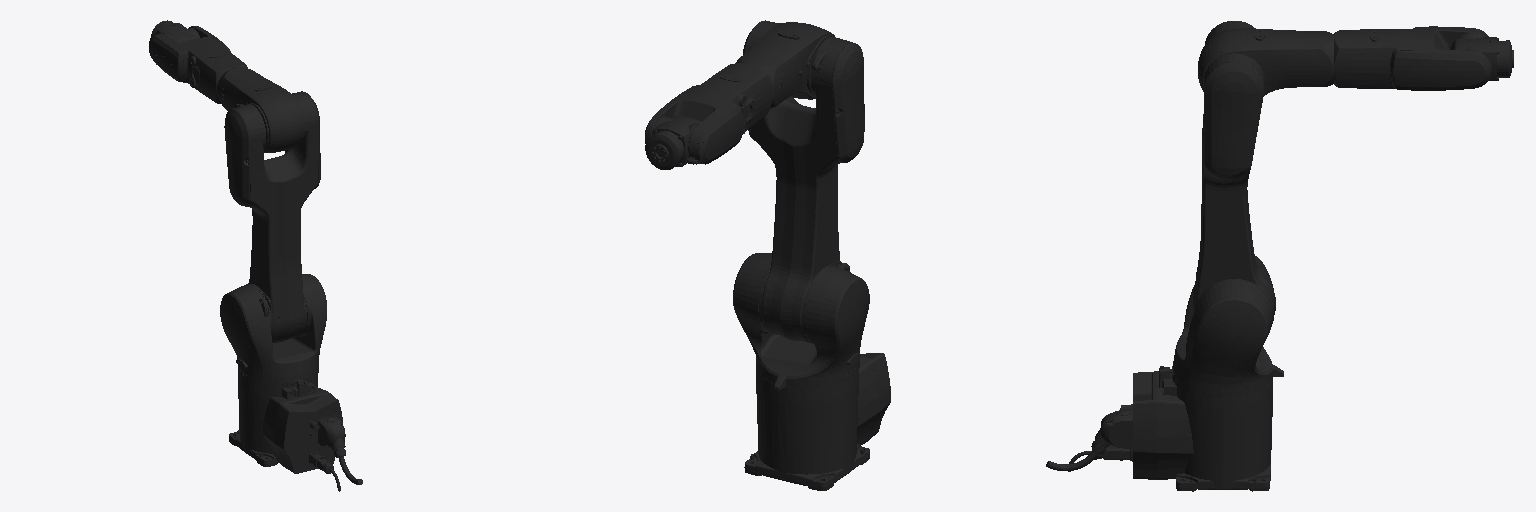
robot.urdf — KR_10_R1100-2:
<?xml version="1.0" encoding="utf-8"?>
<!-- This URDF was automatically created by SolidWorks to URDF Exporter! Originally created by [author] ([email redacted]) 
     Commit Version: 1.5.1-0-g916b5db  Build Version: 1.5.7152.31018
     For more information, please see http://wiki.ros.org/sw_urdf_exporter -->
<robot
  name="KR_10_R1100-2">
  <link
    name="base_link">
    <inertial>
      <origin
        xyz="0.00098 -0.046215 0.11375"
        rpy="0 0 0" />
      <mass
        value="40.968" />
      <inertia
        ixx="0.30715"
        ixy="0.00018245"
        ixz="-9.2053E-05"
        iyy="0.26964"
        iyz="-0.0017403"
        izz="0.26444" />
    </inertial>
    <visual>
      <origin
        xyz="0 0 0"
        rpy="0 0 0" />
      <geometry>
        <mesh
          filename="package://KR_10_R1100-2/meshes/base_link.STL" />
      </geometry>
      <material
        name="">
        <color
          rgba="0.2 0.2 0.2 1" />
      </material>
    </visual>
    <collision>
      <origin
        xyz="0 0 0"
        rpy="0 0 0" />
      <geometry>
        <mesh
          filename="package://KR_10_R1100-2/meshes/base_link.STL" />
      </geometry>
    </collision>
  </link>
  <link
    name="link1">
    <inertial>
      <origin
        xyz="-0.017091 0.066377 -0.00051004"
        rpy="0 0 0" />
      <mass
        value="20.836" />
      <inertia
        ixx="0.24929"
        ixy="0.017272"
        ixz="0.00086363"
        iyy="0.18784"
        iyz="-0.0017085"
        izz="0.15925" />
    </inertial>
    <visual>
      <origin
        xyz="0 0 0"
        rpy="0 0 0" />
      <geometry>
        <mesh
          filename="package://KR_10_R1100-2/meshes/link1.STL" />
      </geometry>
      <material
        name="">
        <color
          rgba="0.2 0.2 0.2 1" />
      </material>
    </visual>
    <collision>
      <origin
        xyz="0 0 0"
        rpy="0 0 0" />
      <geometry>
        <mesh
          filename="package://KR_10_R1100-2/meshes/link1.STL" />
      </geometry>
    </collision>
  </link>
  <joint
    name="joint1"
    type="revolute">
    <origin
      xyz="0 0.025 0.4"
      rpy="-1.5708 0 1.5708" />
    <parent
      link="base_link" />
    <child
      link="link1" />
    <axis
      xyz="0 1 0" />
    <limit
      lower="-2.9671"
      upper="2.9671"
      effort="0"
      velocity="0" />
  </joint>
  <link
    name="link2">
    <inertial>
      <origin
        xyz="-0.29289 -0.009112 0.0034181"
        rpy="0 0 0" />
      <mass
        value="37.712" />
      <inertia
        ixx="0.19183"
        ixy="0.0056744"
        ixz="-0.024057"
        iyy="1.7407"
        iyz="-0.00038136"
        izz="1.6453" />
    </inertial>
    <visual>
      <origin
        xyz="0 0 0"
        rpy="0 0 0" />
      <geometry>
        <mesh
          filename="package://KR_10_R1100-2/meshes/link2.STL" />
      </geometry>
      <material
        name="">
        <color
          rgba="0.2 0.2 0.2 1" />
      </material>
    </visual>
    <collision>
      <origin
        xyz="0 0 0"
        rpy="0 0 0" />
      <geometry>
        <mesh
          filename="package://KR_10_R1100-2/meshes/link2.STL" />
      </geometry>
    </collision>
  </link>
  <joint
    name="joint2"
    type="revolute">
    <origin
      xyz="0 -0.56 0"
      rpy="0 0 -1.5708" />
    <parent
      link="link1" />
    <child
      link="link2" />
    <axis
      xyz="0 0 -1" />
    <limit
      lower="-1.9199"
      upper="2.3562"
      effort="0"
      velocity="0" />
  </joint>
  <link
    name="link3">
    <inertial>
      <origin
        xyz="-0.013869 0.0027428 0.052477"
        rpy="0 0 0" />
      <mass
        value="13.861" />
      <inertia
        ixx="0.096392"
        ixy="0.0002029"
        ixz="-0.010877"
        iyy="0.099917"
        iyz="0.0014885"
        izz="0.036065" />
    </inertial>
    <visual>
      <origin
        xyz="0 0 0"
        rpy="0 0 0" />
      <geometry>
        <mesh
          filename="package://KR_10_R1100-2/meshes/link3.STL" />
      </geometry>
      <material
        name="">
        <color
          rgba="0.2 0.2 0.2 1" />
      </material>
    </visual>
    <collision>
      <origin
        xyz="0 0 0"
        rpy="0 0 0" />
      <geometry>
        <mesh
          filename="package://KR_10_R1100-2/meshes/link3.STL" />
      </geometry>
    </collision>
  </link>
  <joint
    name="joint3"
    type="revolute">
    <origin
      xyz="0.025 0 0"
      rpy="-1.5708 0 0" />
    <parent
      link="link2" />
    <child
      link="link3" />
    <axis
      xyz="0 1 0" />
    <limit
      lower="-3.6652"
      upper="1.1519"
      effort="0"
      velocity="0" />
  </joint>
  <link
    name="link4">
    <inertial>
      <origin
        xyz="-6.0786E-05 -0.1561 0.0016777"
        rpy="0 0 0" />
      <mass
        value="12.229" />
      <inertia
        ixx="0.11016"
        ixy="0.0001174"
        ixz="1.1954E-05"
        iyy="0.029757"
        iyz="-0.0033866"
        izz="0.10001" />
    </inertial>
    <visual>
      <origin
        xyz="0 0 0"
        rpy="0 0 0" />
      <geometry>
        <mesh
          filename="package://KR_10_R1100-2/meshes/link4.STL" />
      </geometry>
      <material
        name="">
        <color
          rgba="0.2 0.2 0.2 1" />
      </material>
    </visual>
    <collision>
      <origin
        xyz="0 0 0"
        rpy="0 0 0" />
      <geometry>
        <mesh
          filename="package://KR_10_R1100-2/meshes/link4.STL" />
      </geometry>
    </collision>
  </link>
  <joint
    name="joint4"
    type="revolute">
    <origin
      xyz="0 0 0.515"
      rpy="1.5708 0 0" />
    <parent
      link="link3" />
    <child
      link="link4" />
    <axis
      xyz="0 1 0" />
    <limit
      lower="-3.2289"
      upper="3.2289"
      effort="0"
      velocity="0" />
  </joint>
  <link
    name="link5">
    <inertial>
      <origin
        xyz="-3.9739E-06 0.0014227 0.011453"
        rpy="0 0 0" />
      <mass
        value="2.6617" />
      <inertia
        ixx="0.0043626"
        ixy="-3.851E-07"
        ixz="3.1662E-07"
        iyy="0.003824"
        iyz="3.4511E-05"
        izz="0.0029832" />
    </inertial>
    <visual>
      <origin
        xyz="0 0 0"
        rpy="0 0 0" />
      <geometry>
        <mesh
          filename="package://KR_10_R1100-2/meshes/link5.STL" />
      </geometry>
      <material
        name="">
        <color
          rgba="0.2 0.2 0.2 1" />
      </material>
    </visual>
    <collision>
      <origin
        xyz="0 0 0"
        rpy="0 0 0" />
      <geometry>
        <mesh
          filename="package://KR_10_R1100-2/meshes/link5.STL" />
      </geometry>
    </collision>
  </link>
  <joint
    name="joint5"
    type="revolute">
    <origin
      xyz="0 0 0"
      rpy="-1.5708 0 0" />
    <parent
      link="link4" />
    <child
      link="link5" />
    <axis
      xyz="0 1 0" />
    <limit
      lower="-2.0944"
      upper="2.0944"
      effort="0"
      velocity="0" />
  </joint>
  <link
    name="link6">
    <inertial>
      <origin
        xyz="-7.8725E-06 1.3027E-13 -0.012726"
        rpy="0 0 0" />
      <mass
        value="0.26501" />
      <inertia
        ixx="0.00010096"
        ixy="-1.1363E-15"
        ixz="6.4736E-09"
        iyy="0.00010097"
        iyz="-9.8601E-17"
        izz="0.00018935" />
    </inertial>
    <visual>
      <origin
        xyz="0 0 0"
        rpy="0 0 0" />
      <geometry>
        <mesh
          filename="package://KR_10_R1100-2/meshes/link6.STL" />
      </geometry>
      <material
        name="">
        <color
          rgba="0.2 0.2 0.2 1" />
      </material>
    </visual>
    <collision>
      <origin
        xyz="0 0 0"
        rpy="0 0 0" />
      <geometry>
        <mesh
          filename="package://KR_10_R1100-2/meshes/link6.STL" />
      </geometry>
    </collision>
  </link>
  <joint
    name="joint6"
    type="revolute">
    <origin
      xyz="0 0 0.09"
      rpy="0 0 0" />
    <parent
      link="link5" />
    <child
      link="link6" />
    <axis
      xyz="0 0 -1" />
    <limit
      lower="-6.1087"
      upper="6.1087"
      effort="0"
      velocity="0" />
  </joint>
</robot>

--- Facts derived from the render (not from the file) ---
Views: 3 orthographic renders of the robot side by side, from view 1: azimuth 30°, elevation 25°; view 2: azimuth 150°, elevation 25°; view 3: azimuth 270°, elevation 25°.
Model KR_10_R1100-2 with 7 links and 6 joints (6 revolute), rooted at base_link, posed every joint at zero.
Visible links, largest first — view 1: link2, base_link, link1, link3, link4, link5; view 2: link2, base_link, link1, link4, link3, link5, link6; view 3: base_link, link2, link1, link4, link3, link5.
Boxes of the visible links, <box> form: link2: <box>224,91,320,342</box>; base_link: <box>229,373,362,491</box>; link1: <box>220,274,326,386</box>; link3: <box>217,67,305,152</box>; link4: <box>149,26,247,103</box>; link5: <box>153,22,199,42</box>; link2: <box>743,20,864,342</box>; base_link: <box>744,353,890,490</box>; link1: <box>733,253,869,390</box>; link4: <box>645,63,772,164</box>; link3: <box>735,22,834,108</box>; link5: <box>652,116,700,166</box>; link6: <box>645,133,680,169</box>; base_link: <box>1046,366,1272,491</box>; link2: <box>1193,21,1275,320</box>; link1: <box>1171,256,1283,396</box>; link4: <box>1334,26,1491,90</box>; link3: <box>1198,28,1333,95</box>; link5: <box>1450,33,1505,80</box>.
Size in the robot's own frame: 0.274 by 1.01 by 1.04 metres.
Meshes: 7 distinct files referenced, 7 mesh visuals loaded (7 binary STL).